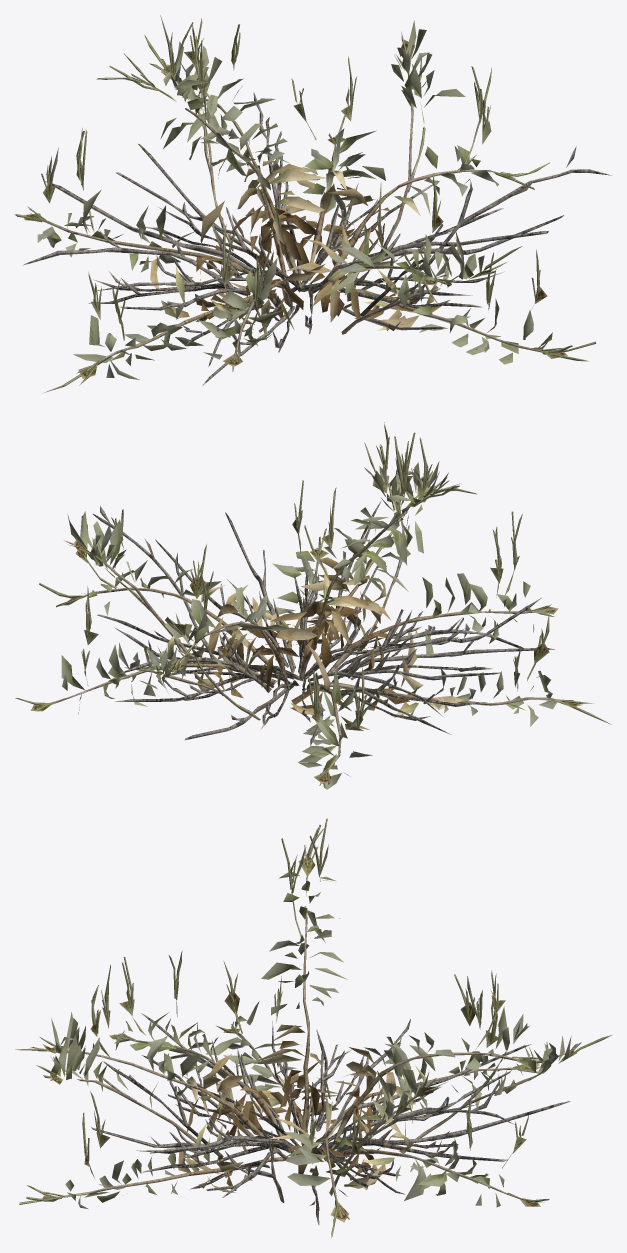
The model's file is SM_Foliage_04.fbx.
3 renders of one model, top to bottom at view 1: azimuth 30°, elevation 25°; view 2: azimuth 150°, elevation 25°; view 3: azimuth 270°, elevation 25°, orthographic. The views are drawn at different scales.
Visible parts, largest first — view 1: SM_Foliage_04_LOD0; view 2: SM_Foliage_04_LOD0; view 3: SM_Foliage_04_LOD0.
Boxes of the visible parts, box(x1,y1,x2,y2) form: SM_Foliage_04_LOD0: box(14, 15, 611, 393); SM_Foliage_04_LOD0: box(15, 422, 611, 789); SM_Foliage_04_LOD0: box(15, 818, 611, 1237).
Size of the model in its own units: 151 by 149 by 77.12.
1 material, 1 textured.
